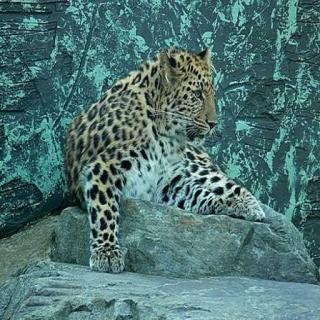Leopard: (78, 36, 286, 284)
